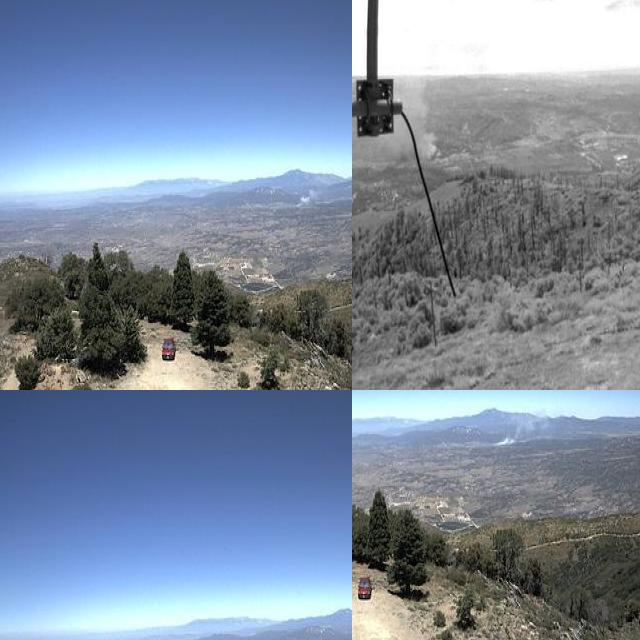smoke: (382, 57, 444, 162), (483, 402, 553, 451), (292, 183, 331, 208)
